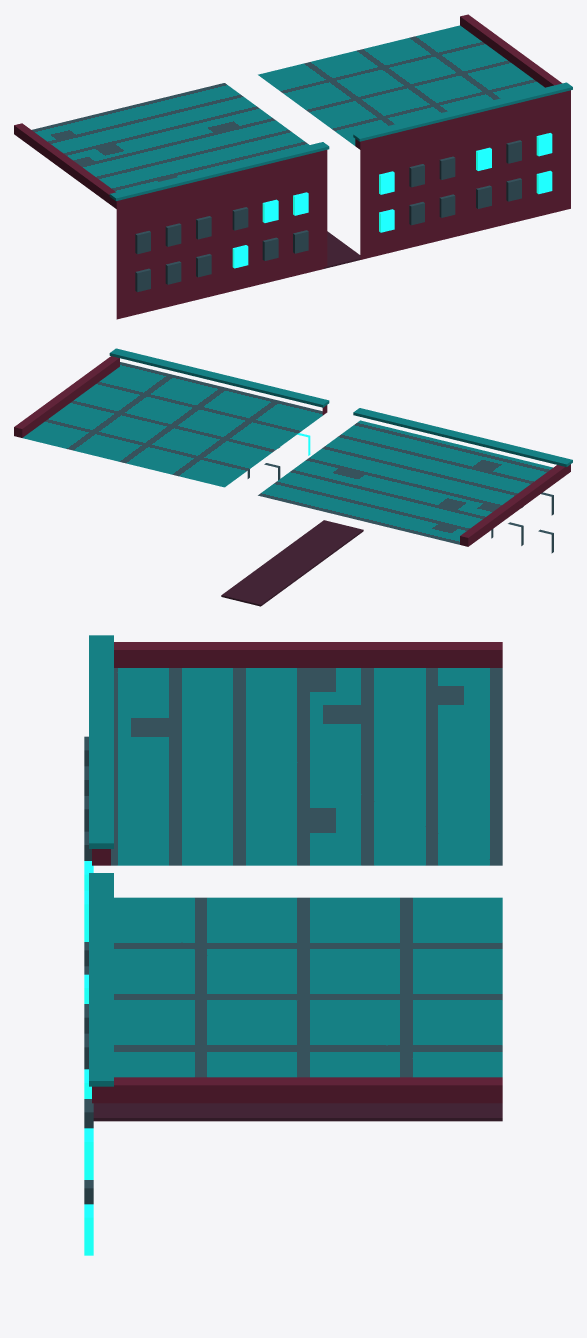
Rendered from roofs.glb.
The picture shows the model from 3 angles, top to bottom: view 1: azimuth 30°, elevation 25°; view 2: azimuth 150°, elevation 25°; view 3: azimuth 270°, elevation 25°; orthographic projection. The views are drawn at different scales.
Parts seen in each view (by area): view 1: BlockR, BlockL, PCapL, PCapR, ParapetR, ParapetL, EndL, EndR, Alley; view 2: BlockR, BlockL, Alley, PCapR, PCapL, EndL, EndR; view 3: BlockL, BlockR, EndR, EndL, Alley, PCapL, PCapR.
Boxes of the visible parts, <box> form: BlockR: <box>258,25,570,259</box>; BlockL: <box>32,83,327,319</box>; PCapL: <box>109,142,329,200</box>; PCapR: <box>353,82,572,141</box>; ParapetR: <box>355,90,570,149</box>; ParapetL: <box>112,150,327,209</box>; EndL: <box>14,123,115,205</box>; EndR: <box>460,14,562,87</box>; Alley: <box>324,231,360,268</box>; BlockR: <box>22,362,322,487</box>; BlockL: <box>258,420,552,544</box>; Alley: <box>221,520,363,606</box>; PCapR: <box>109,348,329,407</box>; PCapL: <box>353,408,572,466</box>; EndL: <box>460,465,566,546</box>; EndR: <box>14,356,119,437</box>; BlockL: <box>111,668,502,865</box>; BlockR: <box>114,897,502,1077</box>; EndR: <box>111,1077,502,1103</box>; EndL: <box>114,642,502,667</box>; Alley: <box>93,1103,502,1121</box>; PCapL: <box>89,635,113,848</box>; PCapR: <box>89,873,113,1086</box>.
Bounding box in the file's own units: 13.88 × 3.54 × 5.5.
7 materials, 2 textured.
